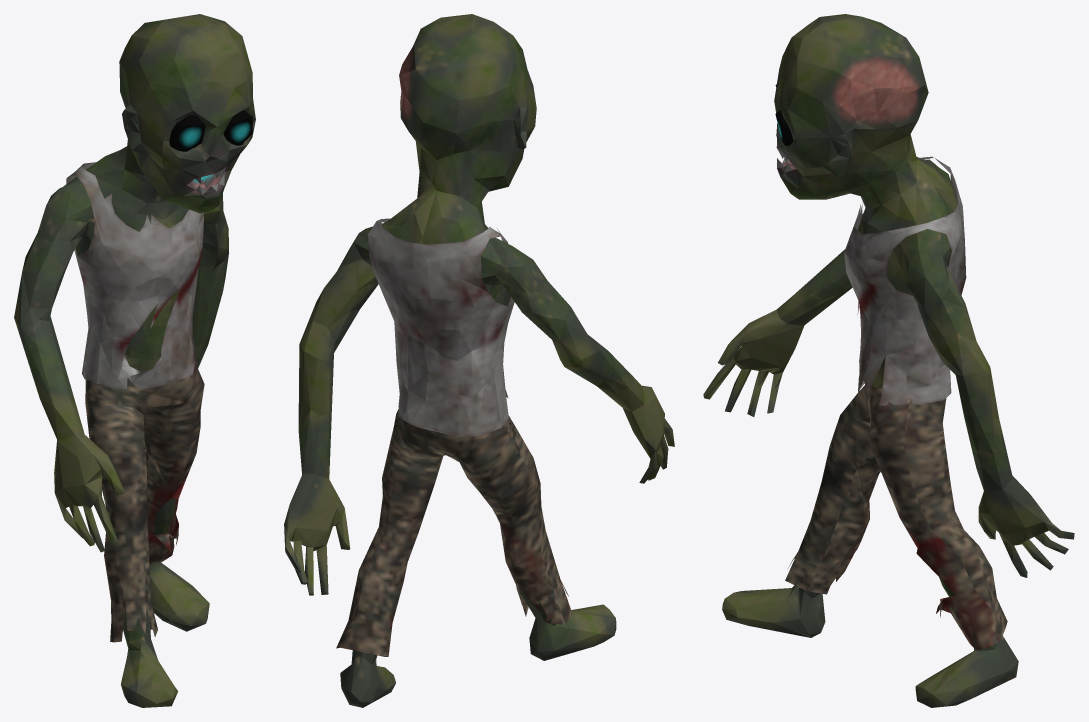
File: zombie_000003.obj
The picture shows the model from 3 angles, left to right: view 1: azimuth 30°, elevation 25°; view 2: azimuth 150°, elevation 25°; view 3: azimuth 270°, elevation 25°; orthographic projection.
Parts seen in each view (by area): view 1: body_Mesh.001, Object001_Mesh.002, clooth_Mesh; view 2: body_Mesh.001, Object001_Mesh.002, clooth_Mesh; view 3: body_Mesh.001, Object001_Mesh.002, clooth_Mesh.
Boxes of the visible parts, box(x1,y1,x2,y2) form: body_Mesh.001: box(14, 14, 255, 707); Object001_Mesh.002: box(85, 361, 204, 642); clooth_Mesh: box(66, 162, 203, 389); body_Mesh.001: box(284, 14, 674, 707); Object001_Mesh.002: box(336, 409, 571, 656); clooth_Mesh: box(368, 218, 514, 436); body_Mesh.001: box(703, 14, 1074, 707); Object001_Mesh.002: box(785, 385, 1007, 649); clooth_Mesh: box(844, 156, 966, 405).
Bounding box in the file's own units: 0.1645 × 0.3879 × 0.1983.
2 materials, 2 textured.
